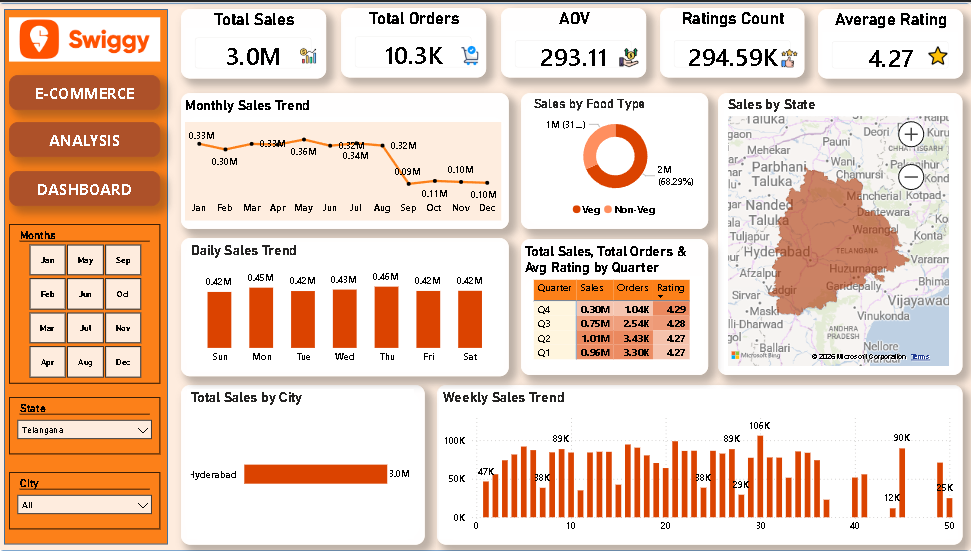

The dashboard page shown, as its layout file describes it:
{"tool":"powerbi","page":{"name":"Page 1","canvas":[1280,720],"ordinal":0},"visuals":[{"type":"shape","box":[0,0,1279.8,720],"z":0},{"type":"cardVisual","title":"Ratings Count","fields":{"Data":["Swiggy Data.Ratings Count"]},"box":[869.9,8,189,91],"z":1000},{"type":"cardVisual","title":"AOV","fields":{"Data":["Swiggy Data.Average Order Value"]},"box":[661.2,8,189.6,91],"z":2000},{"type":"shape","box":[10.3,8.8,214.5,700.9],"z":3000},{"type":"cardVisual","title":"Average Rating","fields":{"Data":["Swiggy Data.Average Rating"]},"box":[1075.6,8.8,189.6,91],"z":4000},{"type":"cardVisual","title":"Total Orders","fields":{"Data":["Swiggy Data.Total Orders"]},"box":[451.1,8,189.6,91],"z":5000},{"type":"cardVisual","title":"Total Sales","fields":{"Data":["Swiggy Data.Total Sales"]},"box":[242.4,8.8,189.6,91.1],"z":6000},{"type":"image","box":[398.2,54.4,20.6,30.9],"z":7000},{"type":"image","box":[1213.7,57.3,39.7,25],"z":8000},{"type":"image","box":[809.6,60.2,39.7,25],"z":9000},{"type":"image","box":[1016.8,61.7,42.6,23.5],"z":10000},{"type":"image","box":[601,57.3,39.7,25],"z":11000},{"type":"image","box":[17.6,17.6,198.4,64.7],"z":12000},{"type":"shape","title":"Monthly Sales Trend","box":[242.4,119,429.1,177.8],"z":13000},{"type":"lineChart","title":"Monthly Sales Trend","fields":{"Category":["Swiggy Data.Months"],"Y":["Swiggy Data.Total Sales"]},"box":[246.9,157.2,414.4,129.3],"z":14000},{"type":"shape","box":[577.5,501.1,687.7,208.7],"z":15000},{"type":"shape","title":"Sales by Food Type","box":[687.7,119,245.4,177.8],"z":16000},{"type":"shape","box":[944.8,119,320.3,368.8],"z":17000},{"type":"shape","box":[242.4,501.1,318.9,208.7],"z":18000},{"type":"shape","box":[242.4,308.6,429.1,180.7],"z":19000},{"type":"shape","title":"Total Sales, Total Orders & Avg Rating by Quarter","box":[687.7,310,245.4,177.8],"z":20000},{"type":"donutChart","title":"Sales by Food Type","fields":{"Y":["Swiggy Data.Total Sales"],"Category":["Swiggy Data.Food Type"]},"box":[698.5,123.5,223.5,167.6],"z":21000},{"type":"clusteredColumnChart","title":"Daily Sales Trend","fields":{"Category":["Swiggy Data.Day"],"Y":["Swiggy Data.Total Sales"]},"box":[250,314.7,414.7,167.6],"z":22000},{"type":"pivotTable","fields":{"Rows":["Swiggy Data.Quarter"],"Values":["Swiggy Data.Total Sales","Swiggy Data.Total Orders","Avg(Swiggy Data.Rating)"]},"box":[698.5,358.8,226.5,114.7],"z":23000},{"type":"filledMap","title":"Sales by State","fields":{"Category":["Swiggy Data.State"]},"box":[952.9,123.5,300,358.8],"z":24000},{"type":"clusteredBarChart","fields":{"Category":["Swiggy Data.City"],"Y":["Swiggy Data.Total Sales"]},"box":[249.8,506.9,296.8,196.9],"z":25000},{"type":"slicer","fields":{"Values":["Swiggy Data.Months"]},"box":[17.6,290.9,198.4,208.7],"z":26000},{"type":"clusteredColumnChart","title":"Weekly Sales Trend","fields":{"Y":["Swiggy Data.Total Sales"],"Category":["Swiggy Data.Week"]},"box":[580.4,506.9,680.3,196.9],"z":27000},{"type":"slicer","fields":{"Values":["Swiggy Data.State"]},"box":[17.6,517.2,198.4,74.9],"z":28000},{"type":"slicer","fields":{"Values":["Swiggy Data.City"]},"box":[17.6,615.7,198.4,74.9],"z":29000},{"type":"shape","title":"DASHBOARD","box":[17.6,95.5,198.4,45.6],"z":30000},{"type":"shape","title":"DASHBOARD","box":[17.6,157.2,198.4,45.6],"z":31000},{"type":"shape","title":"DASHBOARD","box":[17.6,221.9,198.4,45.6],"z":32000}]}

Visuals, with their boxes in screenshot pixels (x1, y1, x2, y2), scaled from the page's 1280x720 canvas onto the 971x551 screenshot:
shape: box(0, 0, 970, 550)
"Ratings Count" cardVisual: box(660, 6, 803, 76)
"AOV" cardVisual: box(502, 6, 645, 76)
shape: box(8, 7, 171, 543)
"Average Rating" cardVisual: box(816, 7, 960, 76)
"Total Orders" cardVisual: box(342, 6, 486, 76)
"Total Sales" cardVisual: box(184, 7, 328, 76)
image: box(302, 42, 318, 65)
image: box(921, 44, 951, 63)
image: box(614, 46, 644, 65)
image: box(771, 47, 804, 65)
image: box(456, 44, 486, 63)
image: box(13, 13, 164, 63)
"Monthly Sales Trend" shape: box(184, 91, 509, 227)
"Monthly Sales Trend" lineChart: box(187, 120, 502, 219)
shape: box(438, 383, 960, 543)
"Sales by Food Type" shape: box(522, 91, 708, 227)
shape: box(717, 91, 960, 373)
shape: box(184, 383, 426, 543)
shape: box(184, 236, 509, 374)
"Total Sales, Total Orders & Avg Rating by Quarter" shape: box(522, 237, 708, 373)
"Sales by Food Type" donutChart: box(530, 95, 699, 223)
"Daily Sales Trend" clusteredColumnChart: box(190, 241, 504, 369)
pivotTable - Swiggy Data.Quarter x Swiggy Data.Total Sales: box(530, 275, 702, 362)
"Sales by State" filledMap: box(723, 95, 950, 369)
clusteredBarChart - Swiggy Data.City x Swiggy Data.Total Sales: box(189, 388, 415, 539)
slicer - Swiggy Data.Months: box(13, 223, 164, 382)
"Weekly Sales Trend" clusteredColumnChart: box(440, 388, 956, 539)
slicer - Swiggy Data.State: box(13, 396, 164, 453)
slicer - Swiggy Data.City: box(13, 471, 164, 529)
"DASHBOARD" shape: box(13, 73, 164, 108)
"DASHBOARD" shape: box(13, 120, 164, 155)
"DASHBOARD" shape: box(13, 170, 164, 205)
